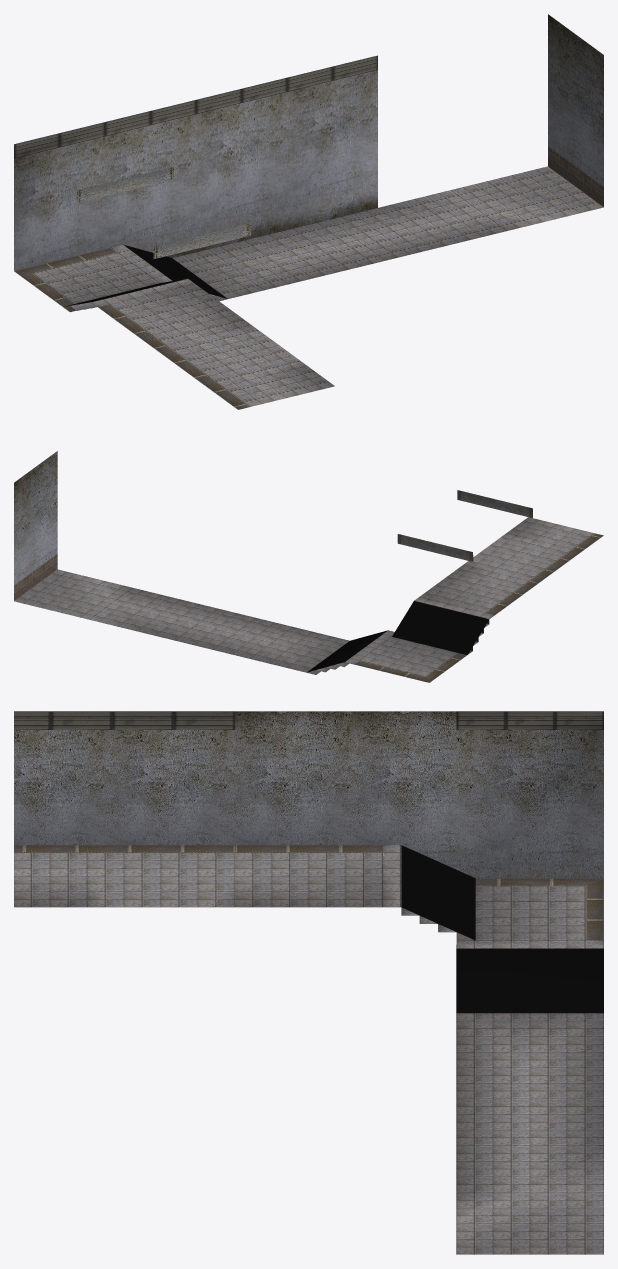
Rendered from M11Z2_SCUDHouse03_E.glb.
3 views of the same model, one above another, from view 1: azimuth 30°, elevation 25°; view 2: azimuth 150°, elevation 25°; view 3: azimuth 270°, elevation 25° (orthographic). The views are drawn at different scales.
Parts seen in each view (by area): view 1: M11Z2_SCUDHOUSE03_E; view 2: M11Z2_SCUDHOUSE03_E; view 3: M11Z2_SCUDHOUSE03_E.
Part boxes in pixels (box(x1,y1,x2,y2)): M11Z2_SCUDHOUSE03_E: box(14, 14, 603, 409); M11Z2_SCUDHOUSE03_E: box(14, 451, 603, 682); M11Z2_SCUDHOUSE03_E: box(14, 711, 603, 1254).
Bounding box in the file's own units: 22 × 6 × 16.
8 materials, 7 textured.
